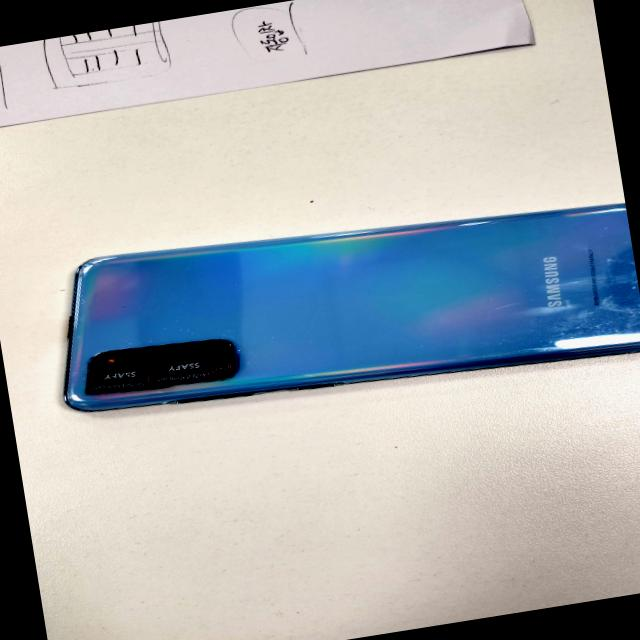phone: (40, 174, 640, 446)
sticker: (146, 350, 240, 390), (82, 362, 160, 401)
